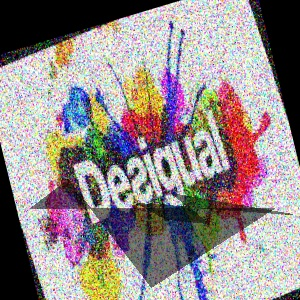desigual: (183, 36, 263, 151)
